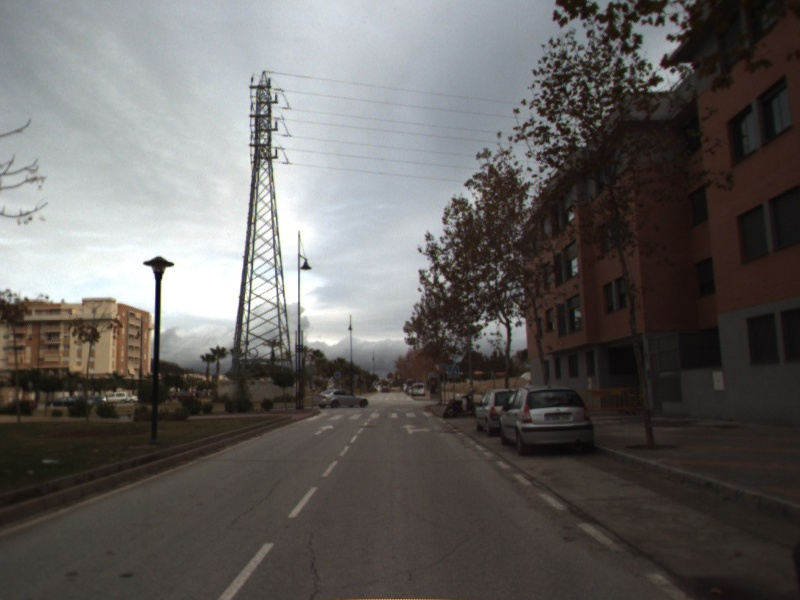STRAIGHT: (312, 422, 336, 437)
STRAIGHT_RIGHT: (399, 422, 434, 436)
